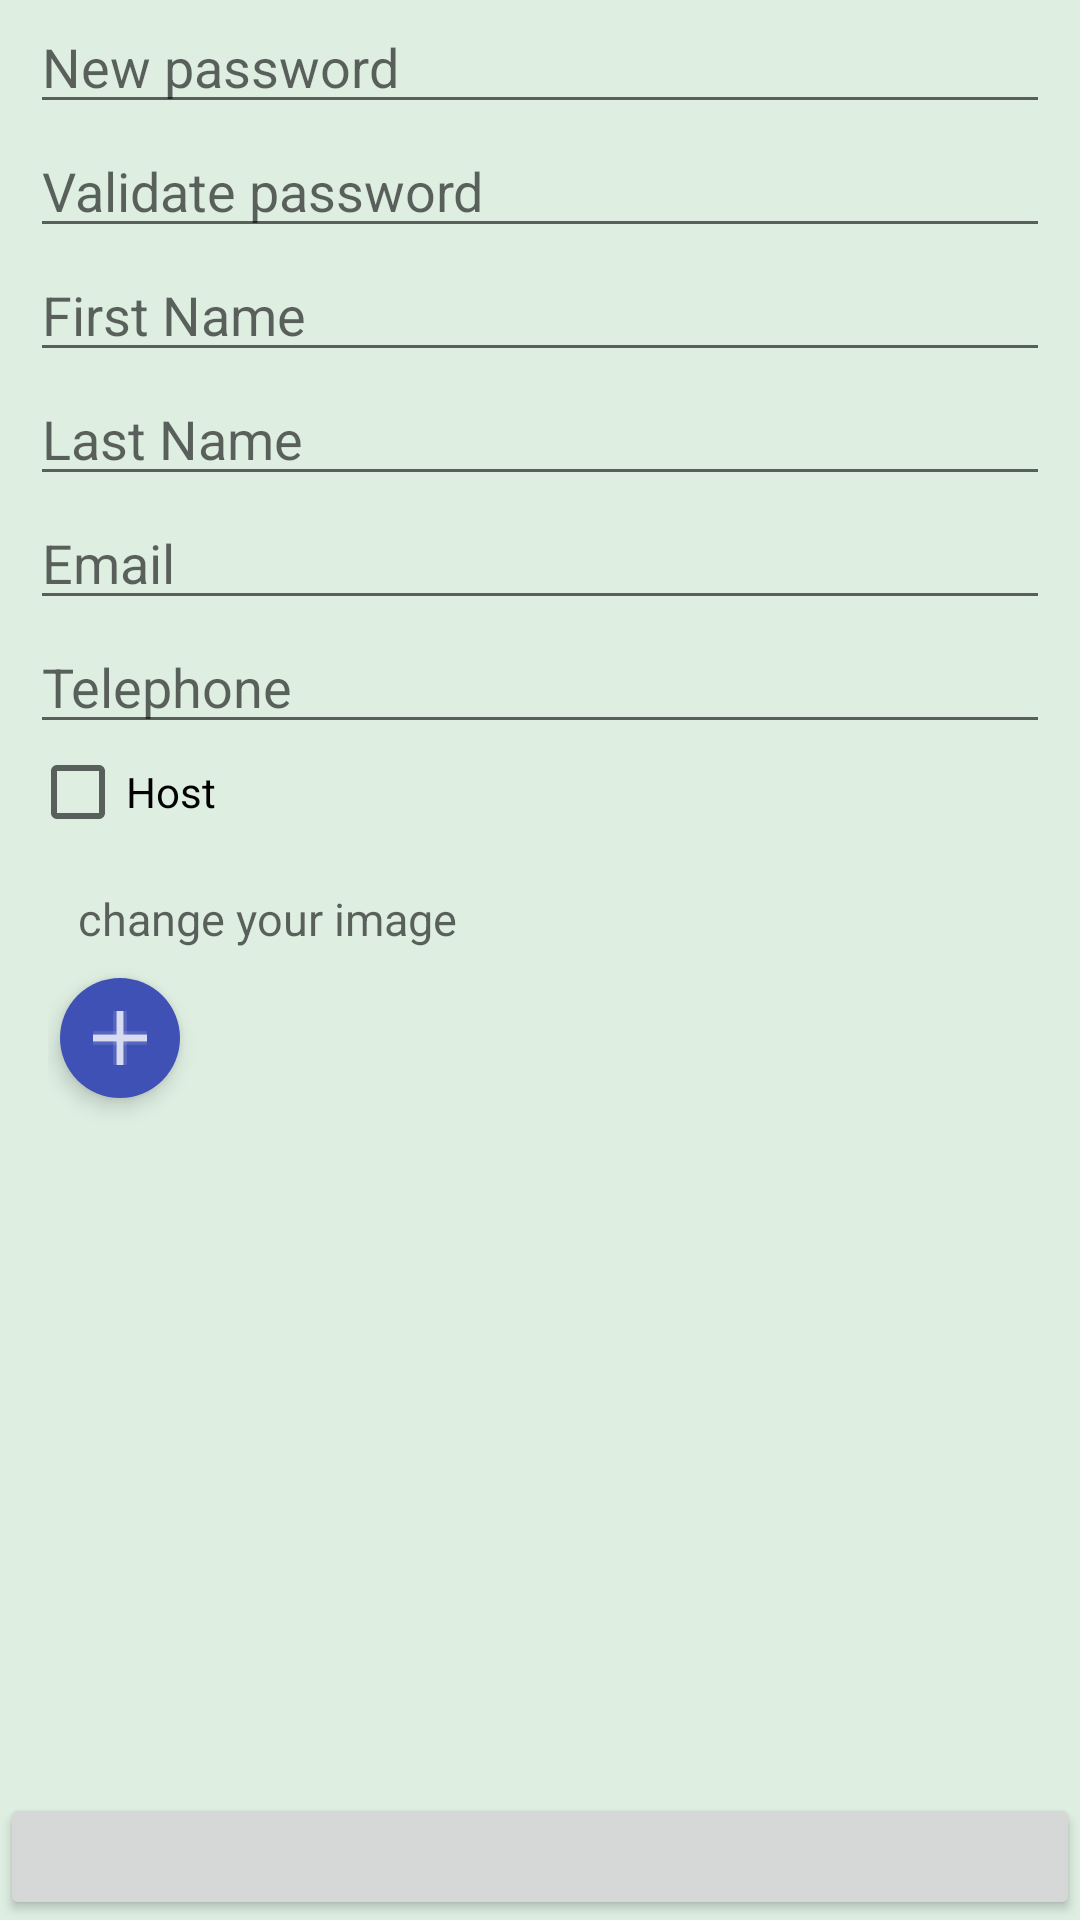

Screen size 1080w x 1920h. Icon name, then its center in pixels as (x=x, y=y):
plus: (x=120, y=1038)
